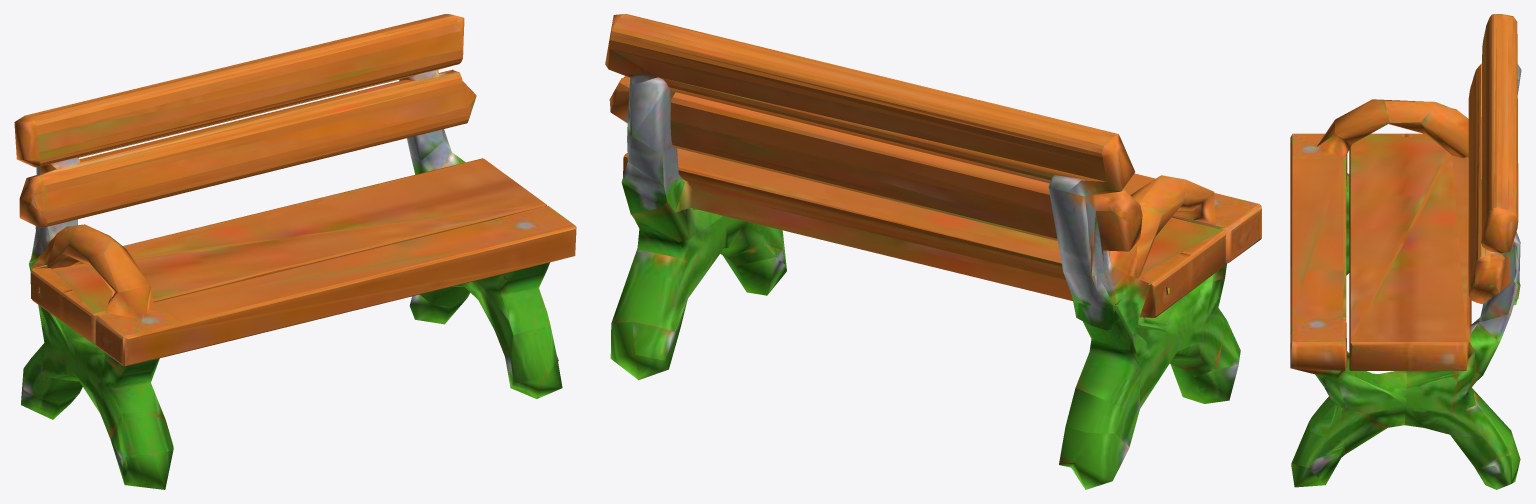
Rendered from bench.glb.
The picture shows the model from 3 angles, left to right: view 1: azimuth 30°, elevation 25°; view 2: azimuth 150°, elevation 25°; view 3: azimuth 270°, elevation 25°; orthographic projection. The views are drawn at different scales.
Bounding box in the file's own units: 1.89 × 1.19 × 0.8728.
1 material, 1 textured.
